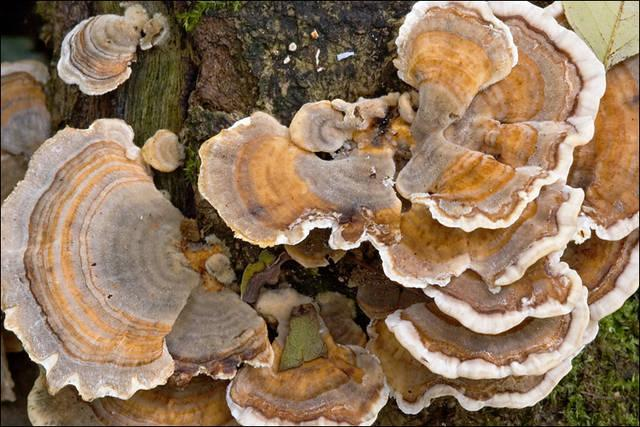poisonous_mushroom: (208, 0, 640, 427), (1, 116, 203, 402), (196, 95, 402, 258), (55, 2, 169, 96)
